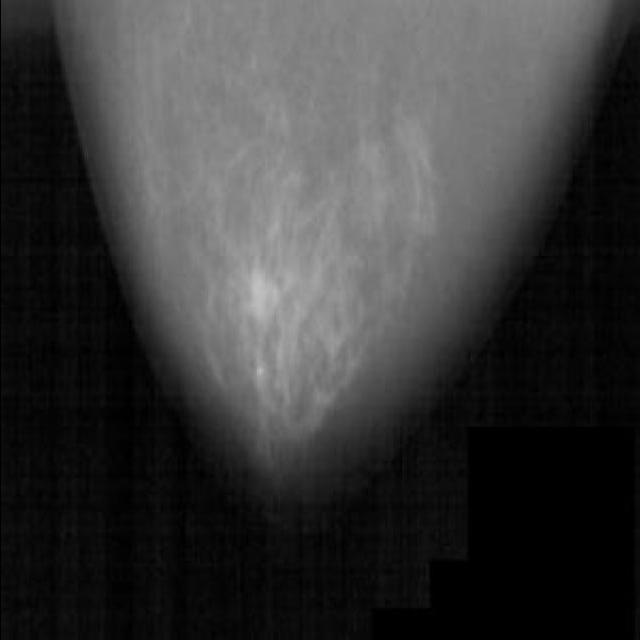tumor: (227, 239, 351, 444)
